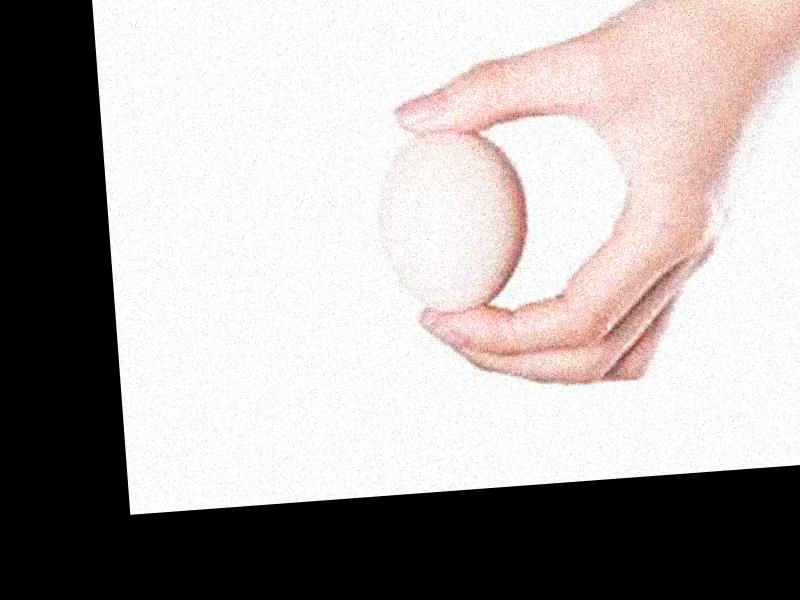Eggs: (373, 123, 533, 319)
